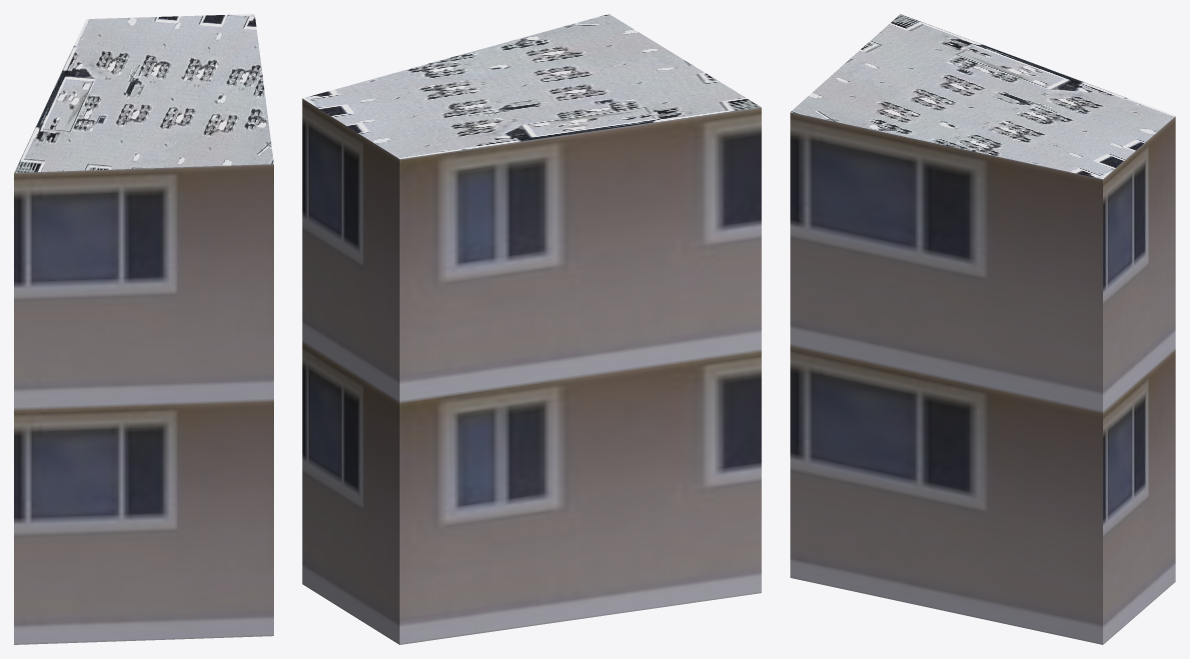
The model's file is ResTex__3485.fbx.
3 views of the same model, side by side, from view 1: azimuth 30°, elevation 25°; view 2: azimuth 150°, elevation 25°; view 3: azimuth 270°, elevation 25° (orthographic). The views are drawn at different scales.
Parts seen in each view (by area): view 1: CityEngineMaterial_21_m, CityEngineMaterial_4_m; view 2: CityEngineMaterial_21_m, CityEngineMaterial_4_m; view 3: CityEngineMaterial_21_m, CityEngineMaterial_4_m.
Part boxes in pixels (x1,y1,x2,y2): CityEngineMaterial_21_m: (14, 164, 273, 644); CityEngineMaterial_4_m: (14, 14, 273, 172); CityEngineMaterial_21_m: (302, 98, 761, 644); CityEngineMaterial_4_m: (303, 14, 760, 158); CityEngineMaterial_21_m: (790, 112, 1175, 644); CityEngineMaterial_4_m: (790, 14, 1175, 179).
Bounding box in the file's own units: 4.57 × 6 × 4.5.
2 materials, 2 textured.
